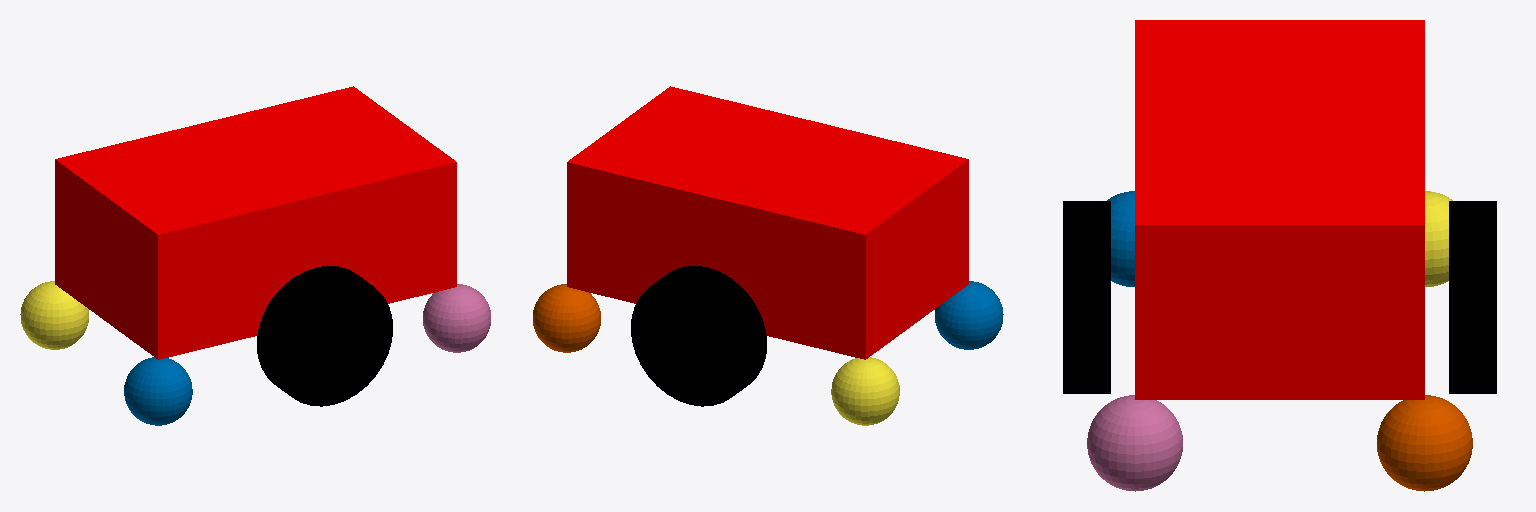
URDF robot description (SimpleRobot):
<robot name="SimpleRobot">
  <link name="base_link">
    <visual>
      <geometry>
        <box size="0.5 0.3 0.2"/>
      </geometry>
      <material name="red">
        <color rgba="1 0 0 1"/>
      </material>
    </visual>
    <collision>
      <geometry>
        <box size="0.5 0.3 0.2"/>
      </geometry>
    </collision>
    <inertial>
      <mass value="5"/>
      <inertia ixx="0.1" ixy="0" ixz="0" iyy="0.1" iyz="0" izz="0.1"/>
    </inertial>
  </link>

  <!-- Rueda motriz IZQUIERDA (vertical, eje de rotación Z) -->
  <link name="left_wheel">
    <visual>
      <geometry>
        <cylinder radius="0.1" length="0.05"/>
      </geometry>
      <material name="black">
        <color rgba="0 0 0 1"/>
      </material>
    </visual>
    <collision>
      <geometry>
        <cylinder radius="0.1" length="0.05"/>
      </geometry>
    </collision>
    <inertial>
      <mass value="1.5"/>
      <inertia ixx="0.05" ixy="0" ixz="0" iyy="0.05" iyz="0" izz="0.1"/>
    </inertial>
  </link>
  <joint name="left_wheel_joint" type="continuous">
    <parent link="base_link"/>
    <child link="left_wheel"/>
    <origin xyz="0 0.2 -0.1" rpy="1.57 0 0"/> <!-- Rotación 90° en X para posición vertical -->
    <axis xyz="0 0 1"/> <!-- Eje Z para giro correcto -->
  </joint>

  <!-- Rueda motriz DERECHA (vertical, eje de rotación Z) -->
  <link name="right_wheel">
    <visual>
      <geometry>
        <cylinder radius="0.1" length="0.05"/>
      </geometry>
      <material name="black">
        <color rgba="0 0 0 1"/>
      </material>
    </visual>
    <collision>
      <geometry>
        <cylinder radius="0.1" length="0.05"/>
      </geometry>
    </collision>
    <inertial>
      <mass value="1.5"/>
      <inertia ixx="0.05" ixy="0" ixz="0" iyy="0.05" iyz="0" izz="0.1"/>
    </inertial>
  </link>
  <joint name="right_wheel_joint" type="continuous">
    <parent link="base_link"/>
    <child link="right_wheel"/>
    <origin xyz="0 -0.2 -0.1" rpy="1.57 0 0"/> <!-- Rotación 90° en X -->
    <axis xyz="0 0 1"/> <!-- Eje Z -->
  </joint>

  <!-- Ruedas giratorias de soporte (4 en esquinas) -->
  <link name="caster_front_left">
    <visual>
      <geometry>
        <sphere radius="0.05"/>
      </geometry>
    </visual>
    <collision>
      <geometry>
        <sphere radius="0.05"/>
      </geometry>
    </collision>
    <inertial>
      <mass value="0.2"/>
      <inertia ixx="0.001" ixy="0" ixz="0" iyy="0.001" iyz="0" izz="0.001"/>
    </inertial>
  </link>
  <joint name="caster_front_left_joint" type="fixed">
    <parent link="base_link"/>
    <child link="caster_front_left"/>
    <origin xyz="-0.25 0.15 -0.15" rpy="0 0 0"/>
  </joint>

  <link name="caster_front_right">
    <visual>
      <geometry>
        <sphere radius="0.05"/>
      </geometry>
    </visual>
    <collision>
      <geometry>
        <sphere radius="0.05"/>
      </geometry>
    </collision>
    <inertial>
      <mass value="0.2"/>
      <inertia ixx="0.001" ixy="0" ixz="0" iyy="0.001" iyz="0" izz="0.001"/>
    </inertial>
  </link>
  <joint name="caster_front_right_joint" type="fixed">
    <parent link="base_link"/>
    <child link="caster_front_right"/>
    <origin xyz="-0.25 -0.15 -0.15" rpy="0 0 0"/>
  </joint>

  <link name="caster_rear_left">
    <visual>
      <geometry>
        <sphere radius="0.05"/>
      </geometry>
    </visual>
    <collision>
      <geometry>
        <sphere radius="0.05"/>
      </geometry>
    </collision>
    <inertial>
      <mass value="0.2"/>
      <inertia ixx="0.001" ixy="0" ixz="0" iyy="0.001" iyz="0" izz="0.001"/>
    </inertial>
  </link>
  <joint name="caster_rear_left_joint" type="fixed">
    <parent link="base_link"/>
    <child link="caster_rear_left"/>
    <origin xyz="0.25 0.15 -0.15" rpy="0 0 0"/>
  </joint>

  <link name="caster_rear_right">
    <visual>
      <geometry>
        <sphere radius="0.05"/>
      </geometry>
    </visual>
    <collision>
      <geometry>
        <sphere radius="0.05"/>
      </geometry>
    </collision>
    <inertial>
      <mass value="0.2"/>
      <inertia ixx="0.001" ixy="0" ixz="0" iyy="0.001" iyz="0" izz="0.001"/>
    </inertial>
  </link>
  <joint name="caster_rear_right_joint" type="fixed">
    <parent link="base_link"/>
    <child link="caster_rear_right"/>
    <origin xyz="0.25 -0.15 -0.15" rpy="0 0 0"/>
  </joint>
</robot>

--- Render facts (derived) ---
The picture shows the robot from 3 angles, left to right: view 1: azimuth 30°, elevation 25°; view 2: azimuth 150°, elevation 25°; view 3: azimuth 270°, elevation 25°; orthographic projection.
Robot: SimpleRobot — 7 links, 6 joints (2 continuous, 4 fixed); root link base_link; default pose: all joints at 0.
Links seen in each view (by area): view 1: base_link, right_wheel, caster_front_right, caster_rear_right, caster_front_left; view 2: base_link, left_wheel, caster_front_left, caster_rear_left, caster_front_right; view 3: base_link, left_wheel, right_wheel, caster_rear_left, caster_rear_right, caster_front_left, caster_front_right.
Link boxes in pixels (left/top/right/bottom): base_link: left=55, top=86, right=456, bottom=359; right_wheel: left=257, top=266, right=392, bottom=406; caster_front_right: left=124, top=357, right=192, bottom=425; caster_rear_right: left=423, top=284, right=490, bottom=352; caster_front_left: left=20, top=281, right=88, bottom=349; base_link: left=567, top=86, right=968, bottom=359; left_wheel: left=631, top=266, right=766, bottom=406; caster_front_left: left=831, top=357, right=899, bottom=425; caster_rear_left: left=533, top=284, right=600, bottom=352; caster_front_right: left=935, top=281, right=1003, bottom=349; base_link: left=1135, top=20, right=1424, bottom=399; left_wheel: left=1449, top=201, right=1496, bottom=393; right_wheel: left=1063, top=201, right=1110, bottom=393; caster_rear_left: left=1377, top=395, right=1472, bottom=491; caster_rear_right: left=1087, top=395, right=1182, bottom=491; caster_front_left: left=1425, top=191, right=1452, bottom=286; caster_front_right: left=1107, top=191, right=1134, bottom=286.
Size in the robot's own frame: 0.6 by 0.4502 by 0.3 metres.
Geometry: primitives only (box / cylinder / sphere), no mesh files.